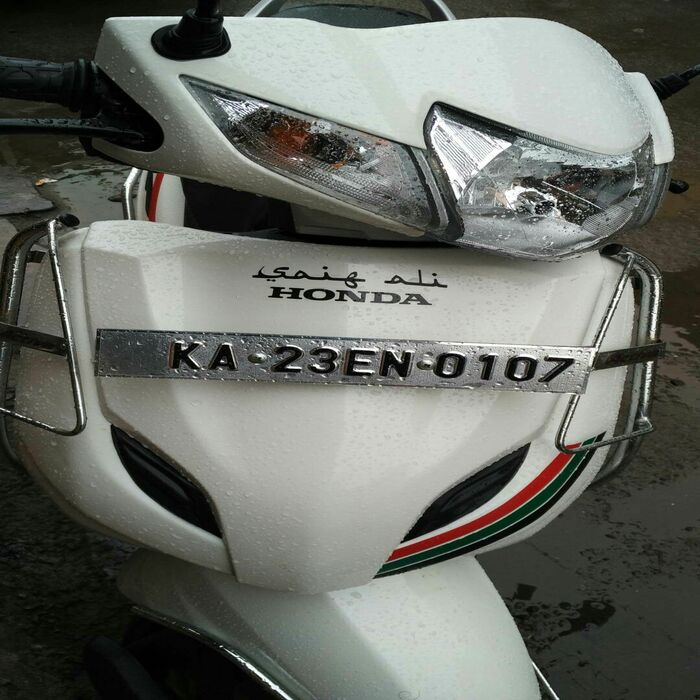n: (91, 337, 592, 391)
